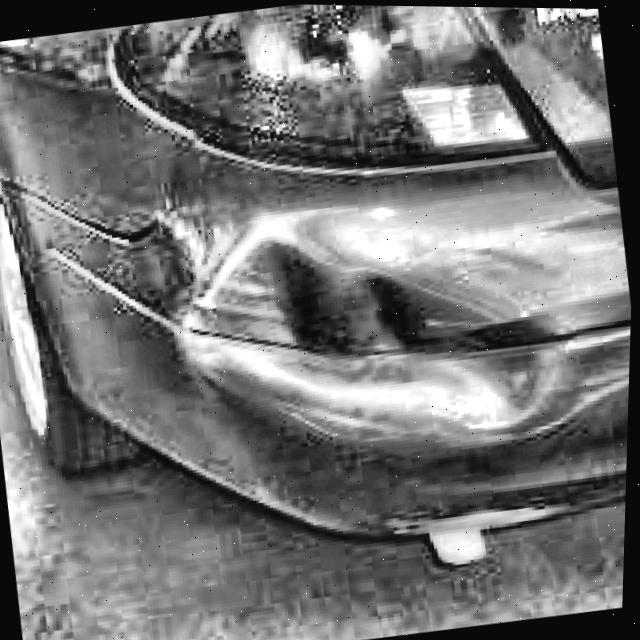bumper_dent: (167, 196, 573, 483)
